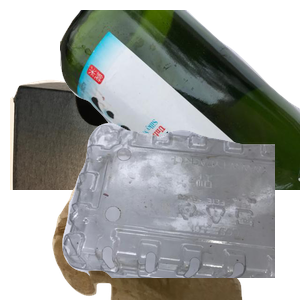cardboard: (10, 77, 245, 257)
glass: (60, 10, 300, 190)
plastic: (60, 120, 300, 300)
trash: (50, 120, 285, 300)
